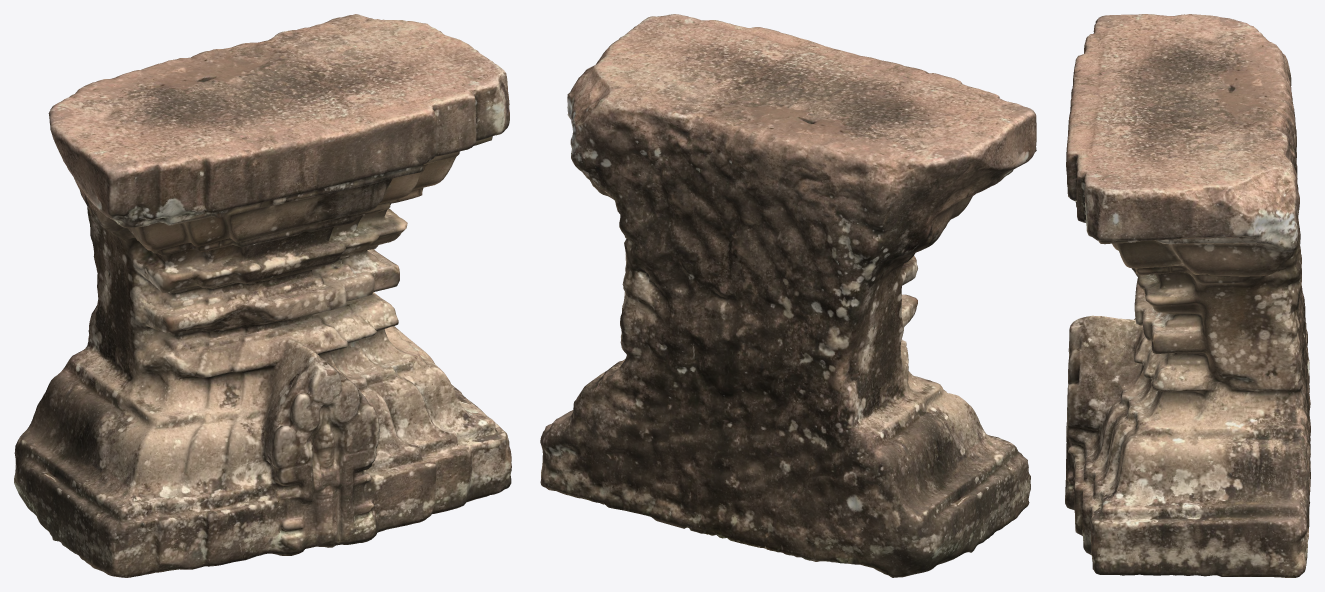
File: 01_MysonSanctuaryD_Vattrangtrichantru_final.glb
The picture shows the model from 3 angles, left to right: view 1: azimuth 30°, elevation 25°; view 2: azimuth 150°, elevation 25°; view 3: azimuth 270°, elevation 25°; orthographic projection. The views are drawn at different scales.
Size of the model in its own units: 1.12 by 1.1 by 0.6303.
Materials: 1 (1 with a texture image).
